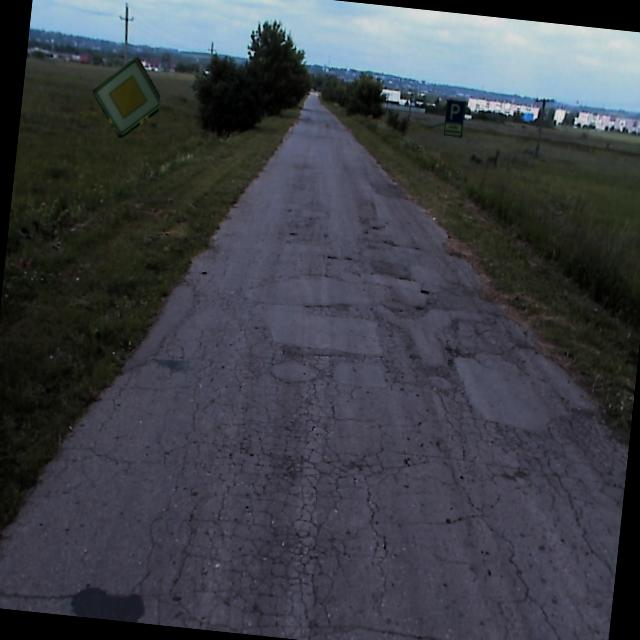road: (0, 91, 628, 640)
